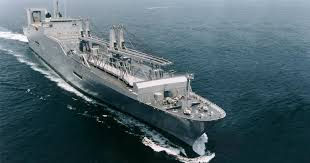Ship: (22, 9, 225, 157)
